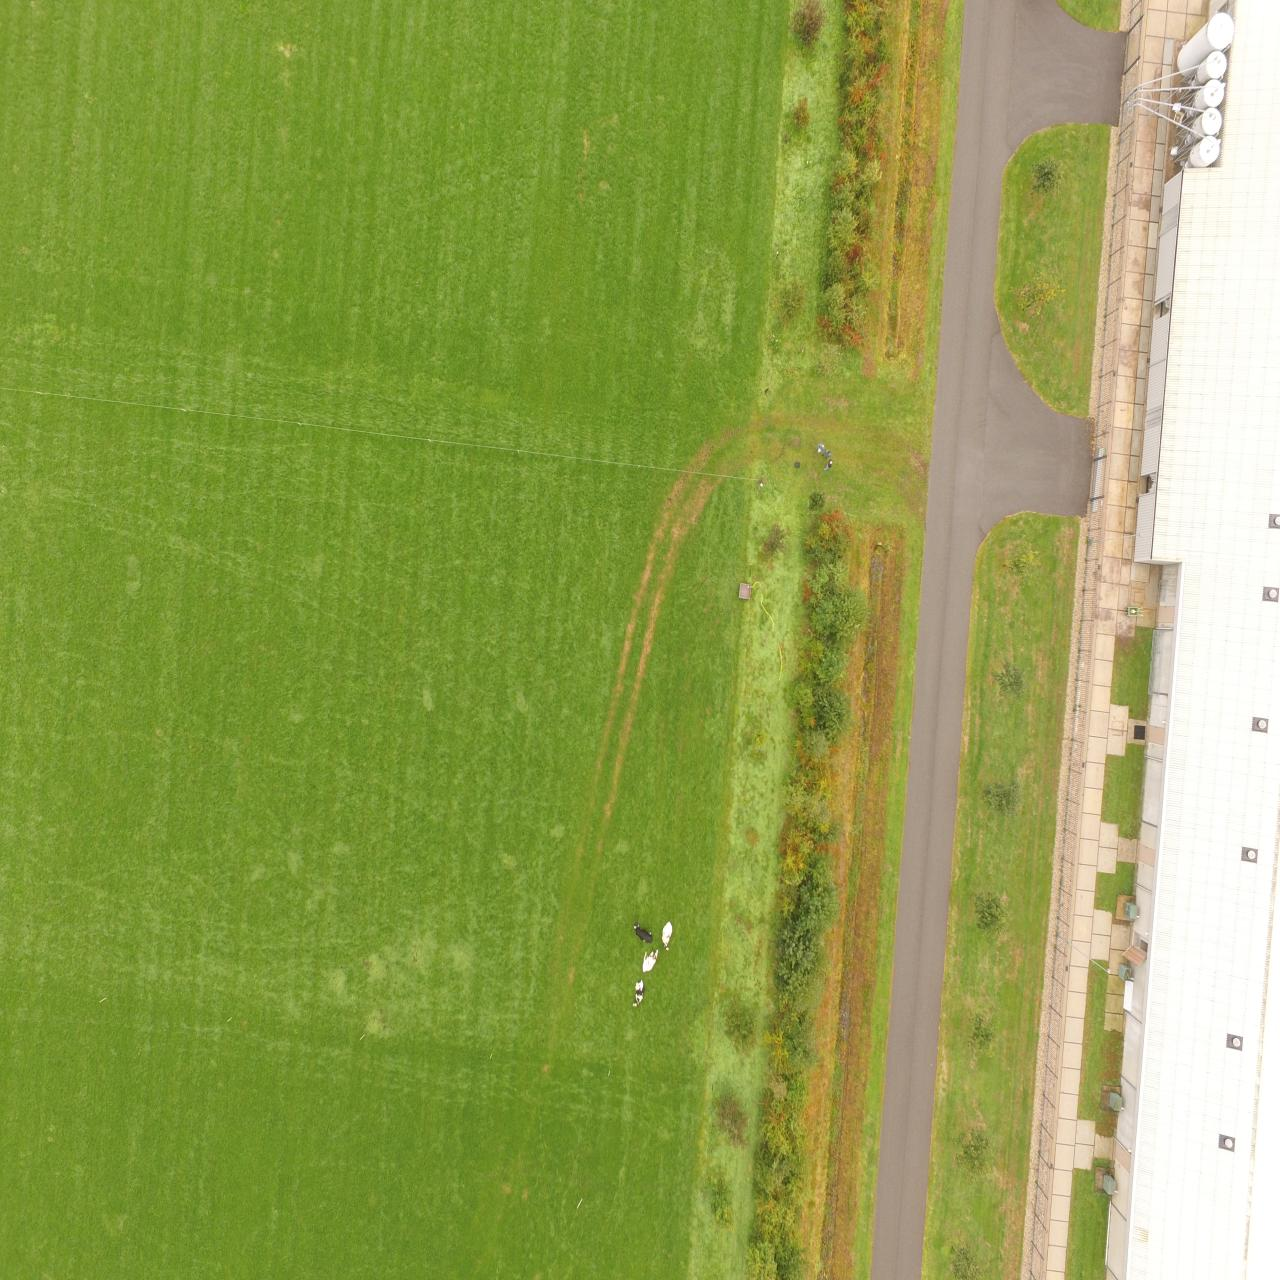cow: (633, 920, 653, 942), (642, 949, 659, 974), (661, 921, 673, 949), (633, 980, 645, 1006)
